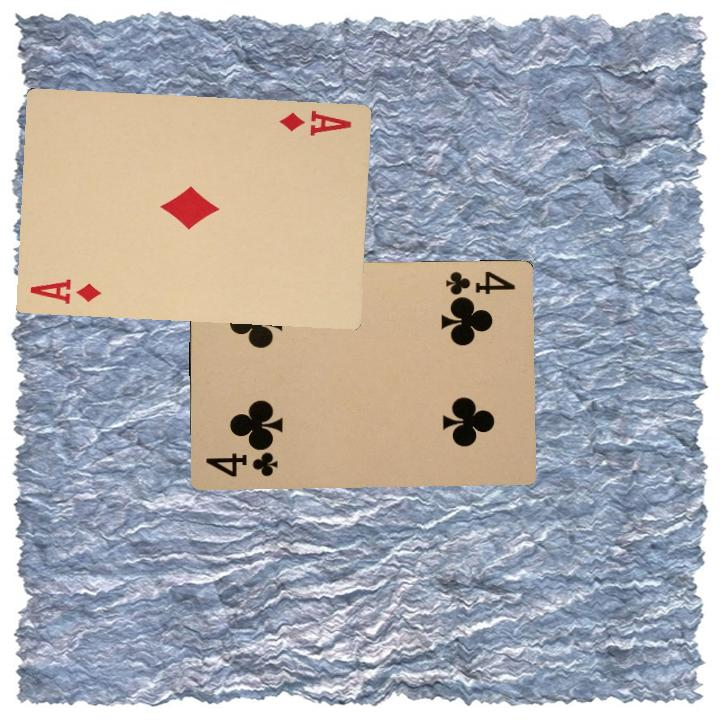4c: (442, 267, 518, 303), (202, 445, 280, 480)
Ad: (277, 106, 354, 138), (26, 274, 103, 306)
